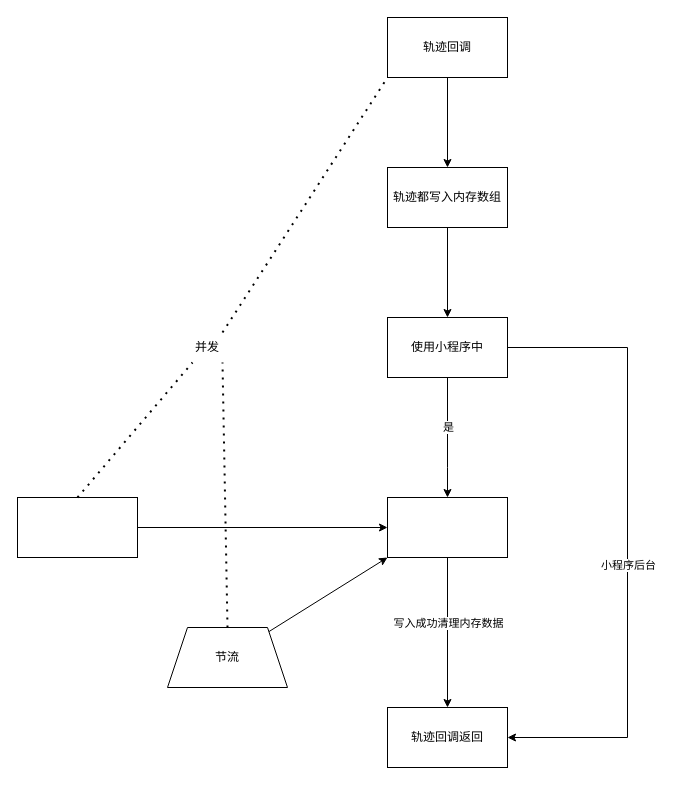
Some shapes in this 673 by 785 pixel diagram are drawn without their labels. Each missing label, with the centre of its shape:
APP_ONSHOW: (77,527)
轨迹数组写入文件: (447,527)
